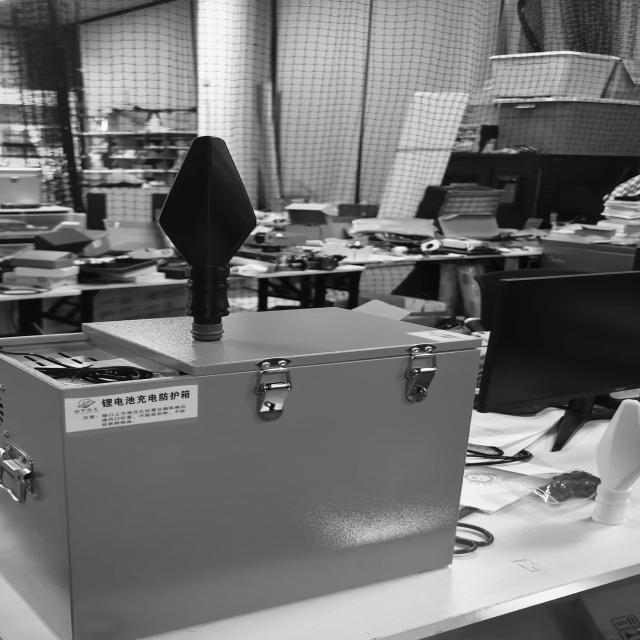base: (189, 322, 225, 342)
